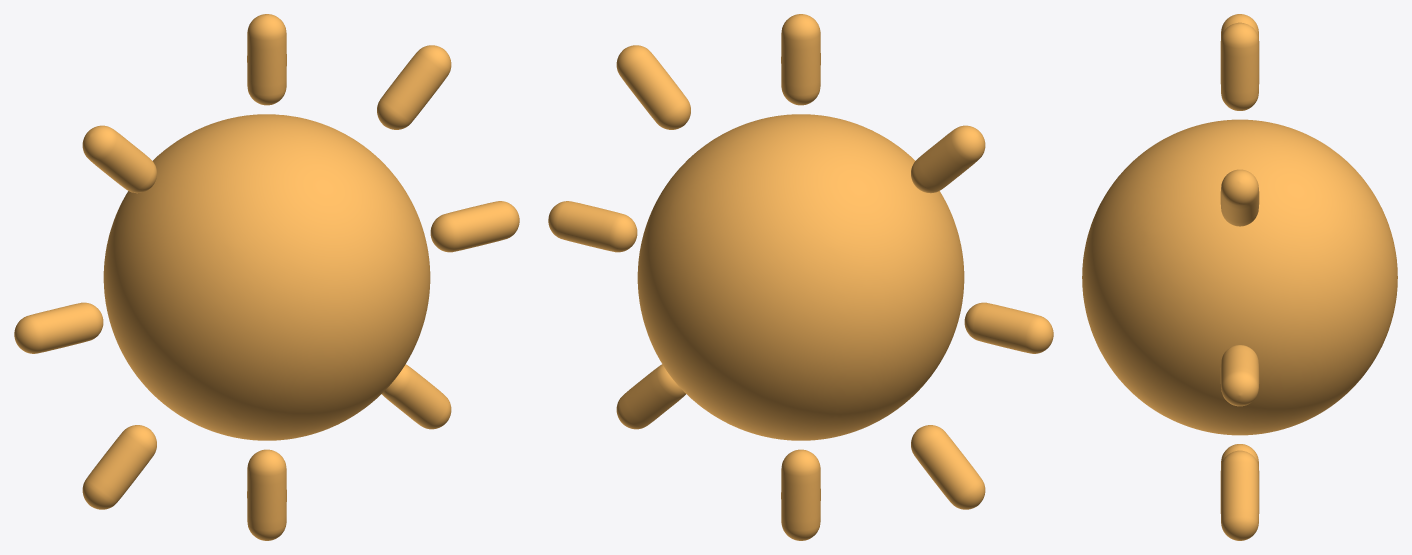
The model's file is sun.glb.
3 renders of one model, left to right at view 1: azimuth 30°, elevation 25°; view 2: azimuth 150°, elevation 25°; view 3: azimuth 270°, elevation 25°, orthographic. The views are drawn at different scales.
Visible parts, largest first — view 1: Sun; view 2: Sun; view 3: Sun.
Part boxes in pixels (<box>): Sun: <box>14,14,519,540</box>; Sun: <box>548,14,1053,540</box>; Sun: <box>1082,14,1397,540</box>.
Bounding box in the file's own units: 2 × 2 × 1.13.
